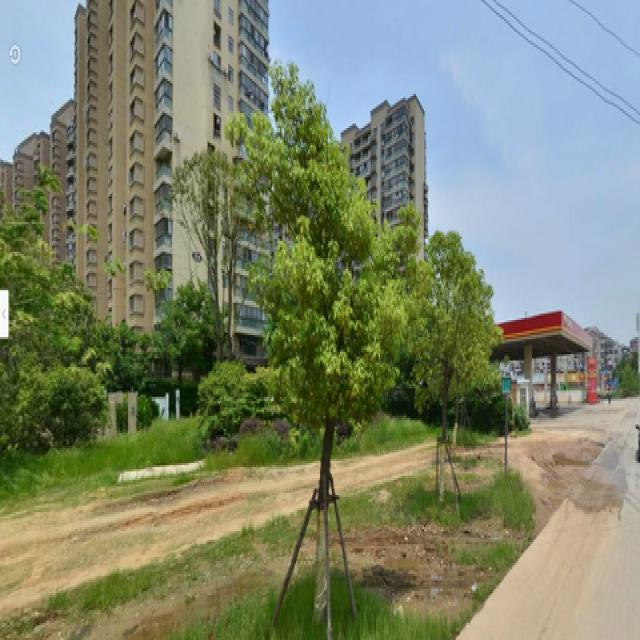cinn: (252, 92, 403, 621)
